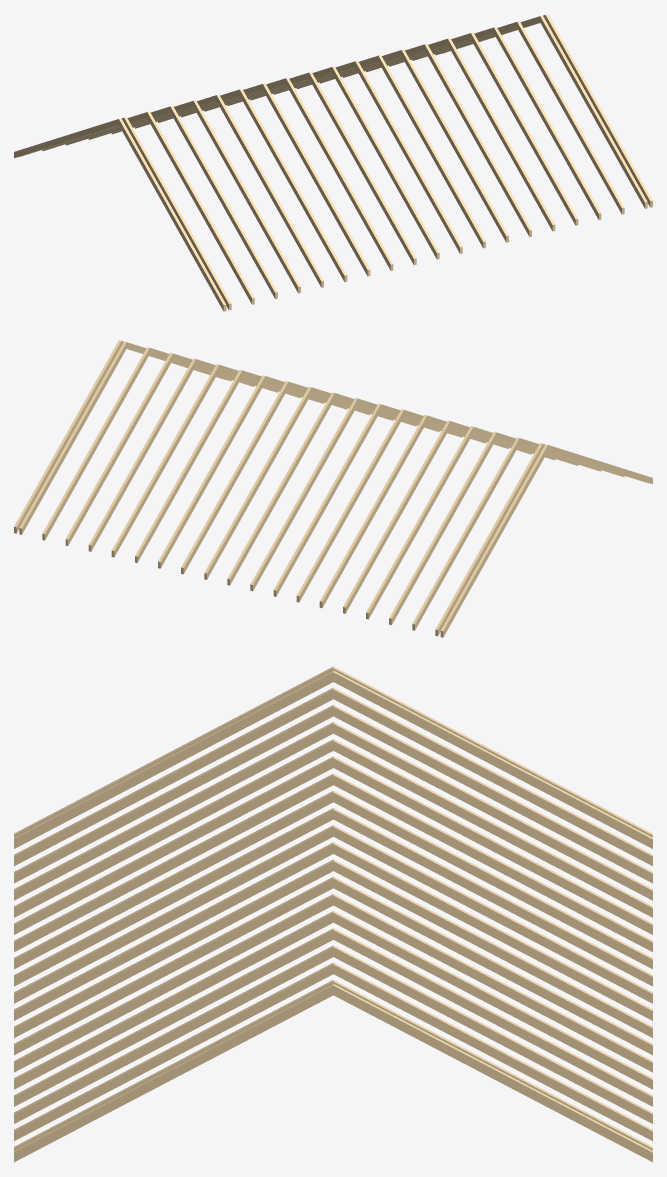
The model's file is model-part.gltf_curtainwalls_allFloors.gltf.
3 views of the same model, one above another, from view 1: azimuth 30°, elevation 25°; view 2: azimuth 150°, elevation 25°; view 3: azimuth 270°, elevation 25° (orthographic). The views are drawn at different scales.
Size of the model in its own units: 13 by 3.36 by 11.
